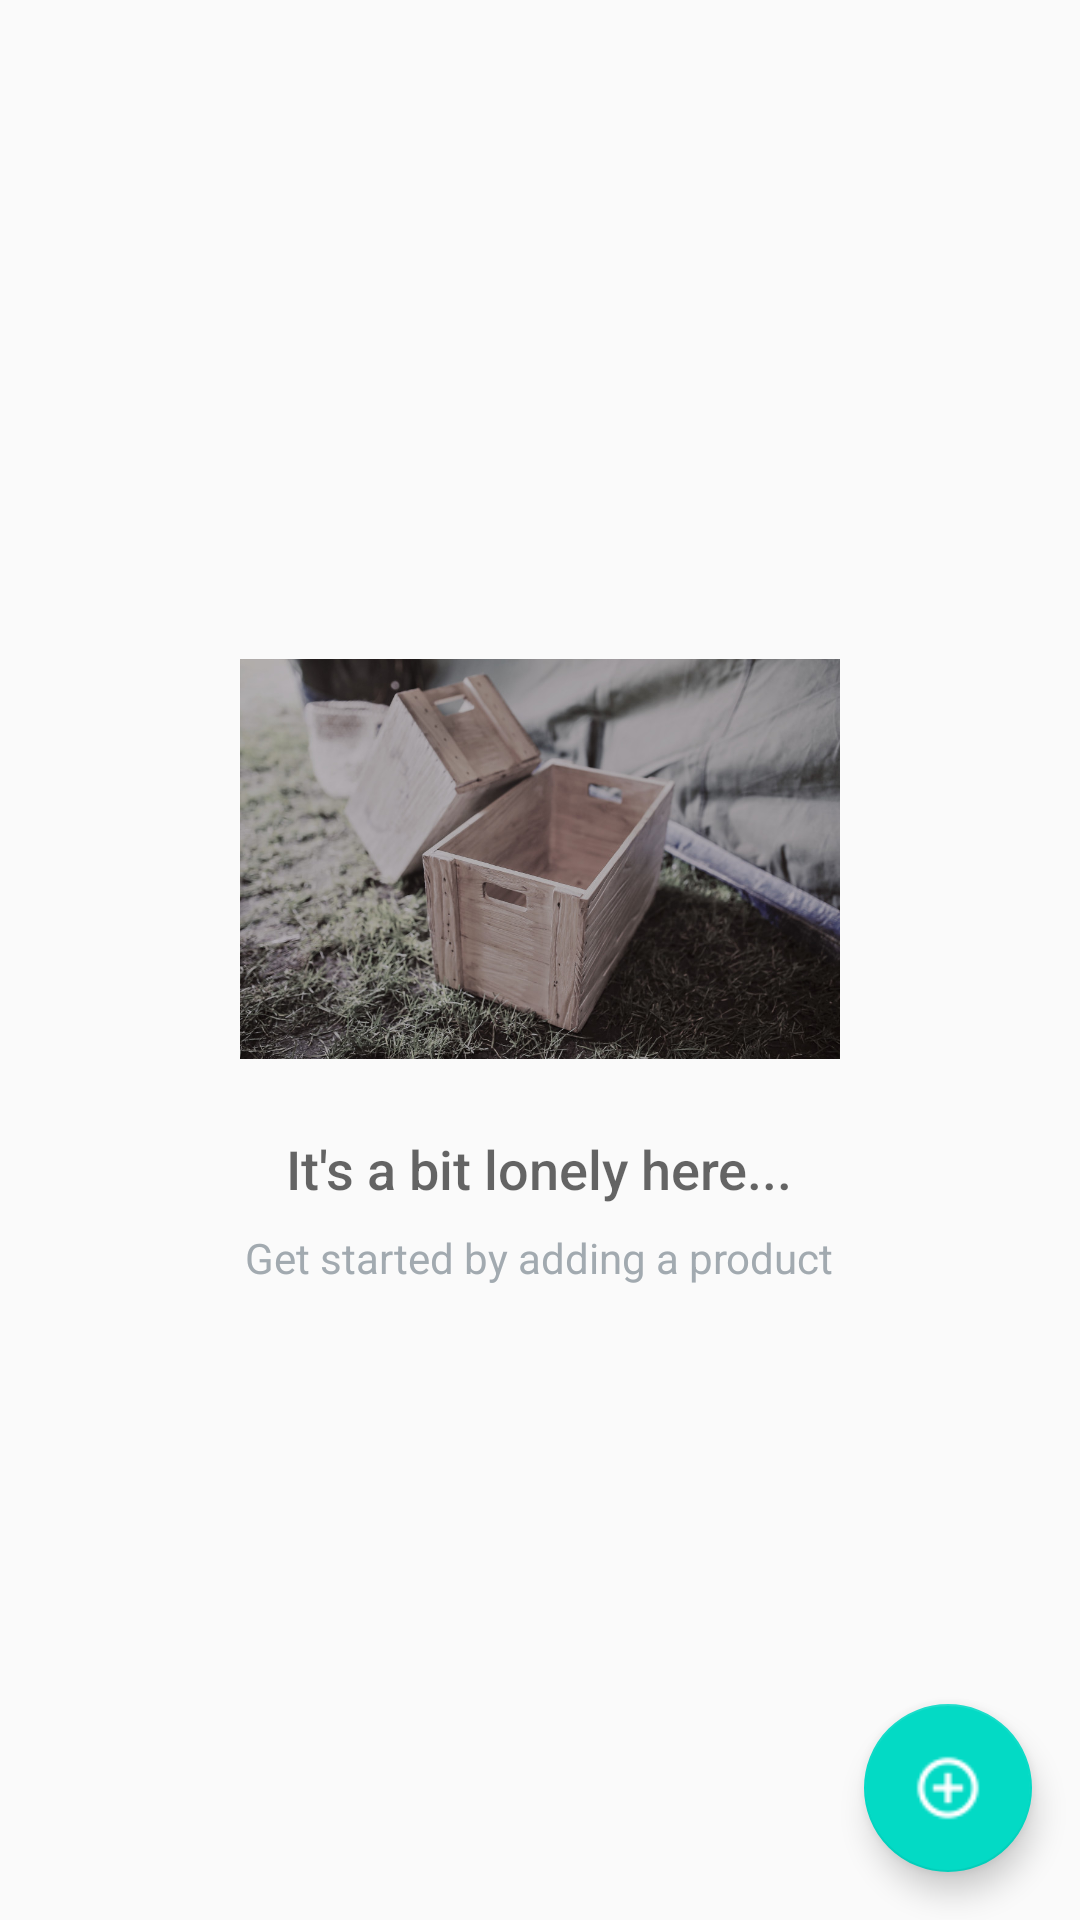

Where icons sit on this 1080×1920 app screen, as (x1, y1, x2, y2):
control point: (864, 1704, 1032, 1872)
